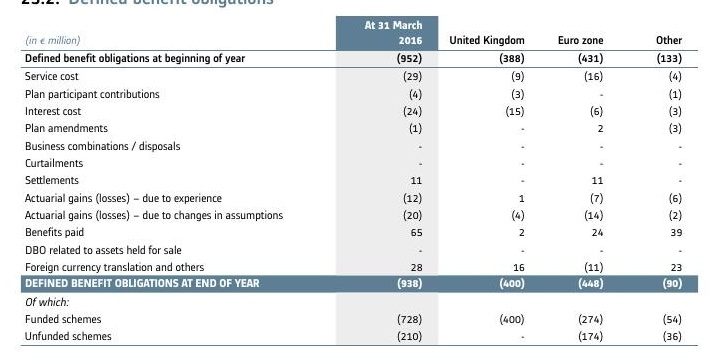table: (0, 0, 725, 364)
